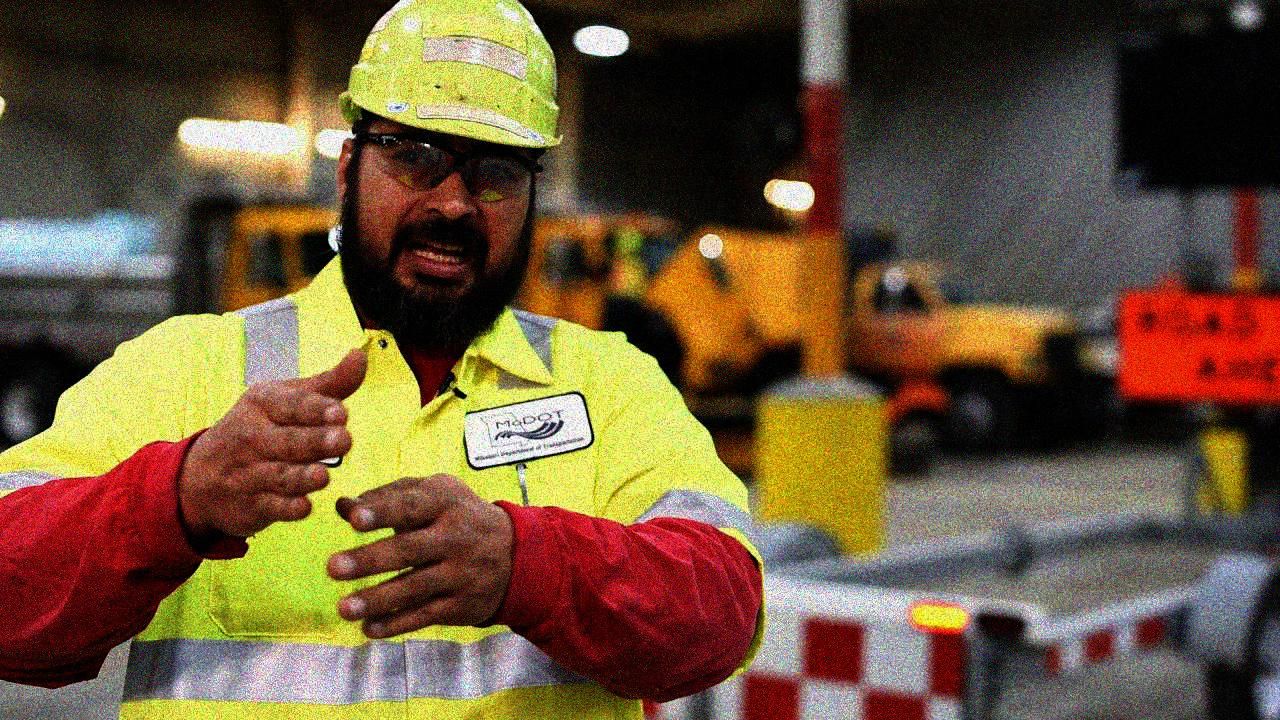helmet: (329, 1, 568, 339)
